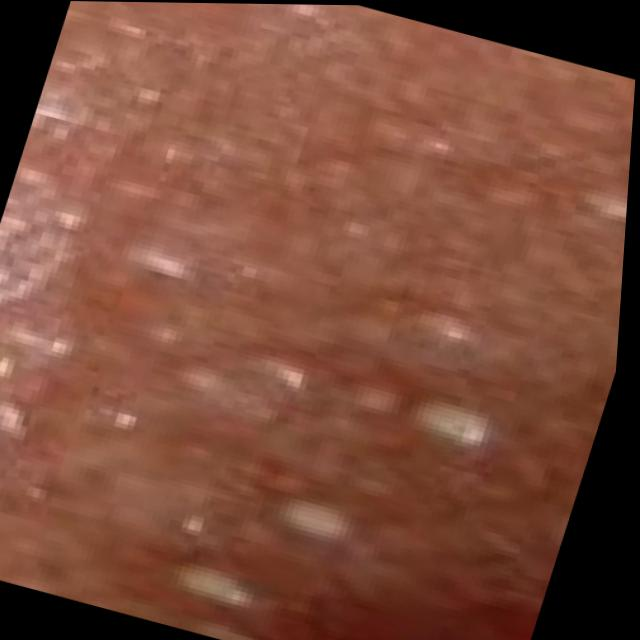whitehead: (0, 207, 603, 640)
